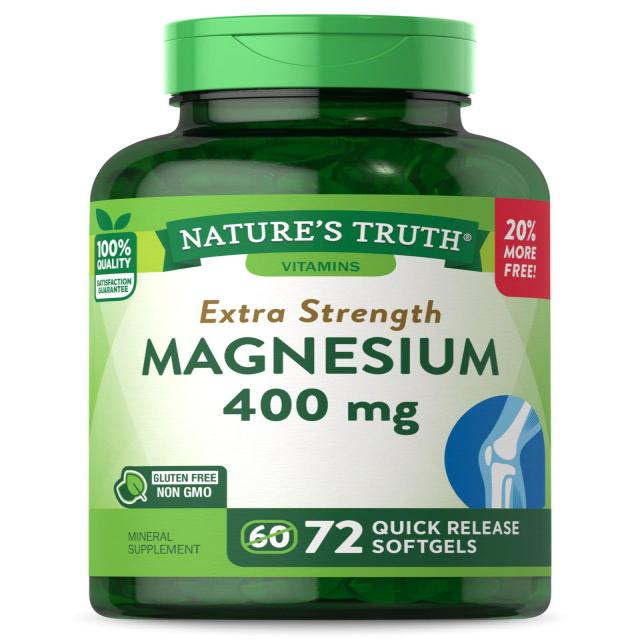food-supliment: (89, 178, 549, 624)
